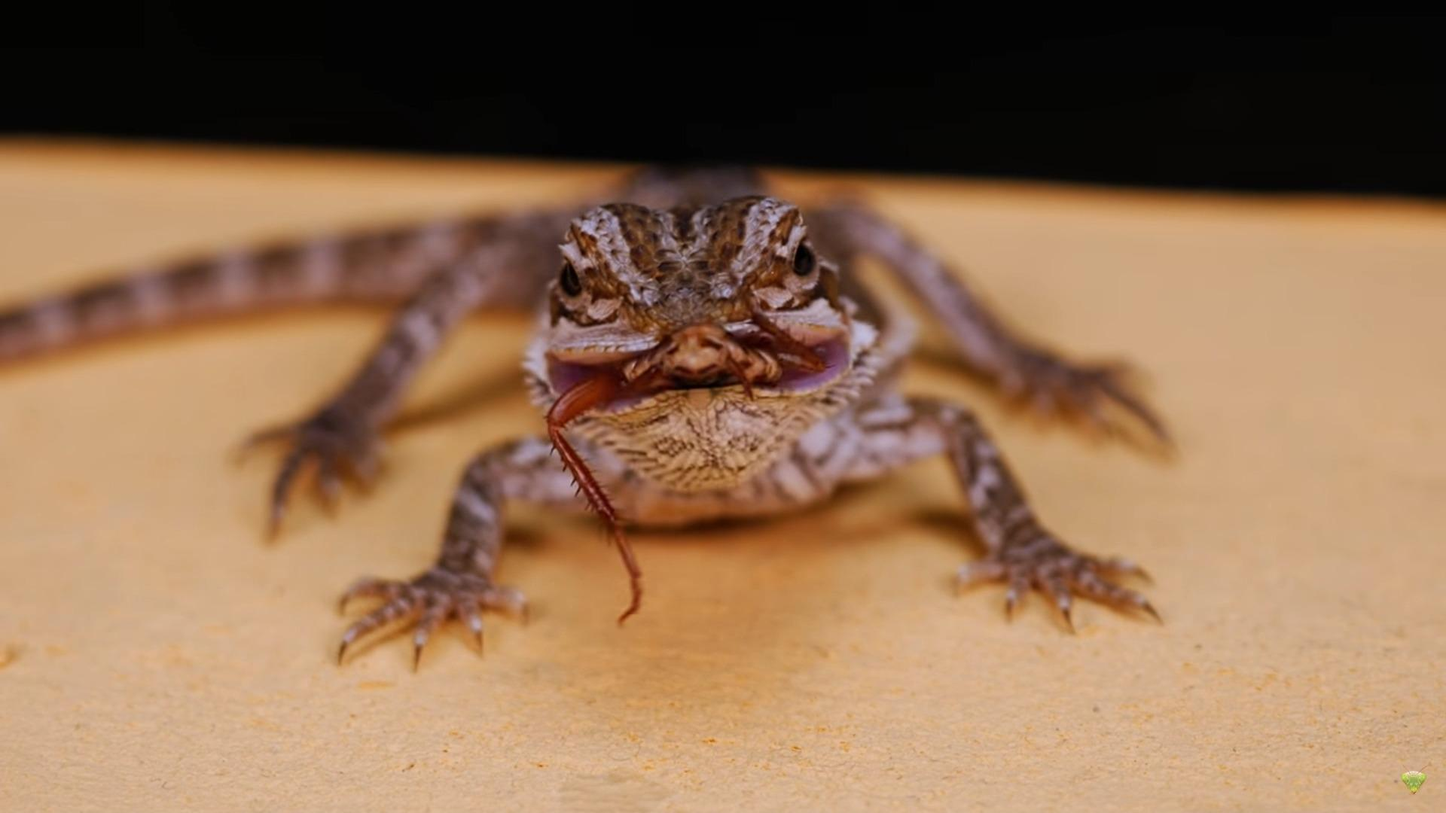cockroach: (536, 322, 845, 617)
lizard: (323, 192, 1170, 717)
